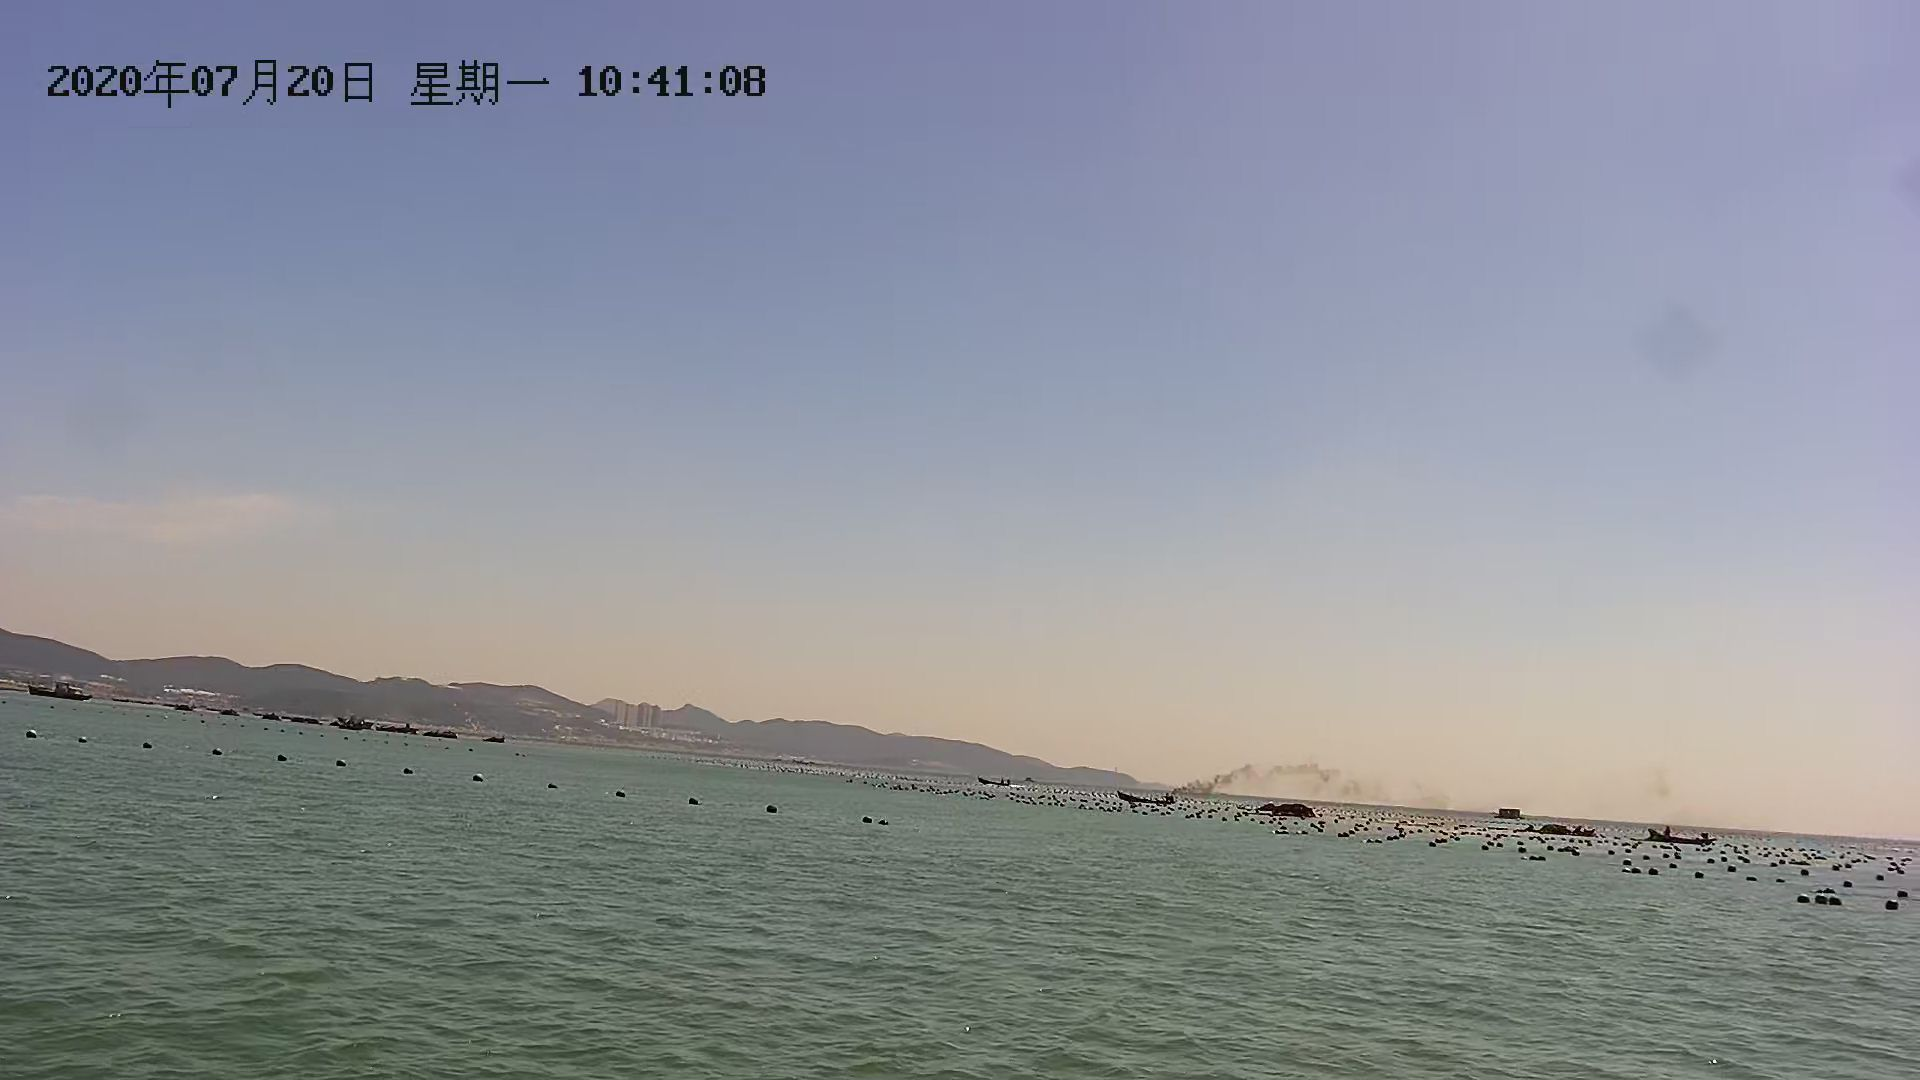boat: (1644, 825, 1718, 848), (1116, 787, 1178, 807)
rubbish: (1259, 798, 1319, 822), (1540, 823, 1593, 836)
ship: (21, 679, 91, 702)
